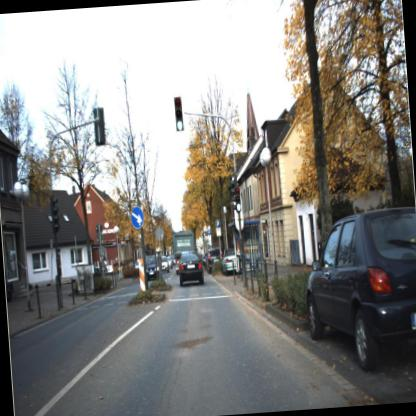mandatory: (126, 204, 148, 233)
